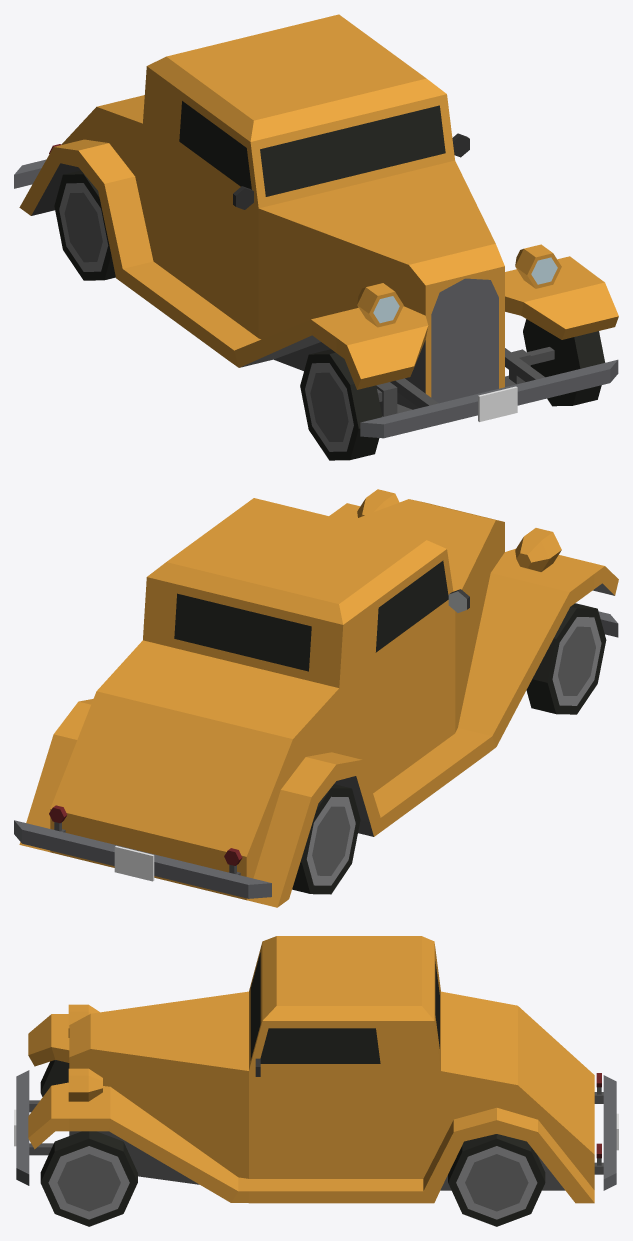
The model's file is Veh_Retro_Car_02_Yellow.obj.
The picture shows the model from 3 angles, top to bottom: view 1: azimuth 30°, elevation 25°; view 2: azimuth 150°, elevation 25°; view 3: azimuth 270°, elevation 25°; orthographic projection. The views are drawn at different scales.
Size of the model in its own units: 0.9825 by 0.8995 by 2.4.
